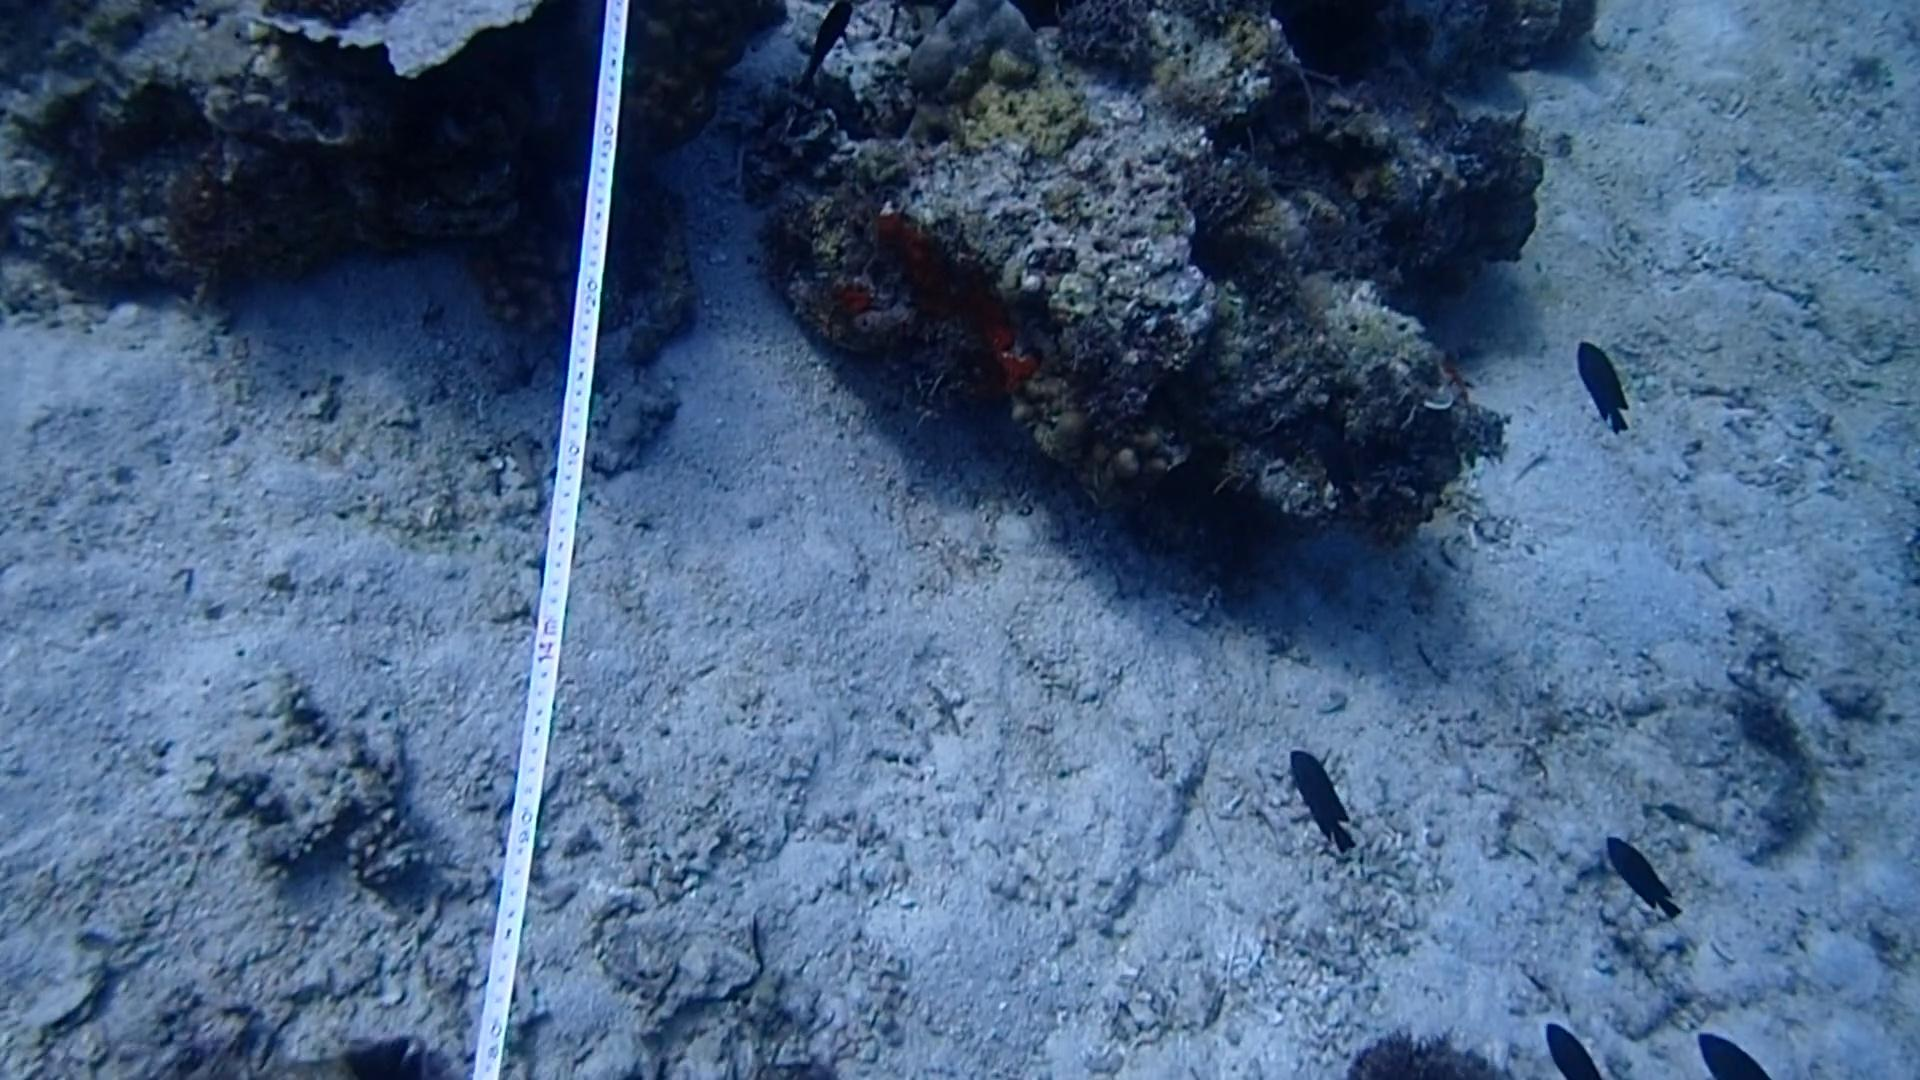Dark Fish: (1274, 742, 1366, 866), (1568, 327, 1639, 458), (770, 0, 869, 88), (1600, 827, 1688, 924), (1689, 1025, 1774, 1080), (1540, 1017, 1602, 1080)
